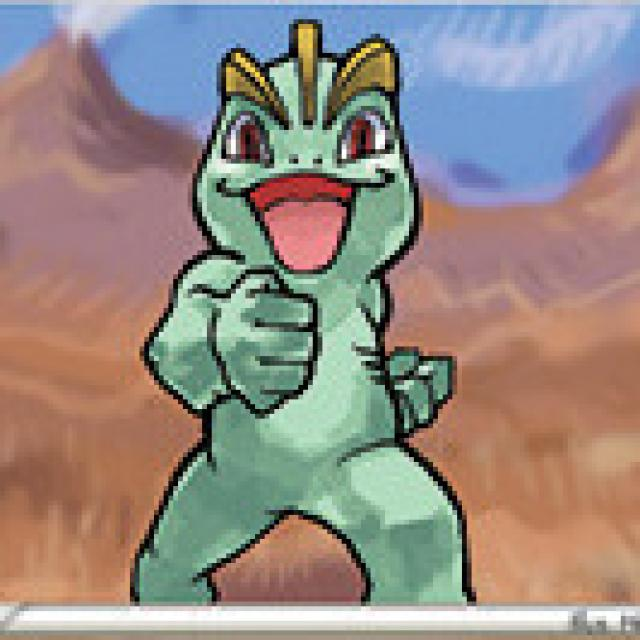Machop: (142, 20, 472, 616)
